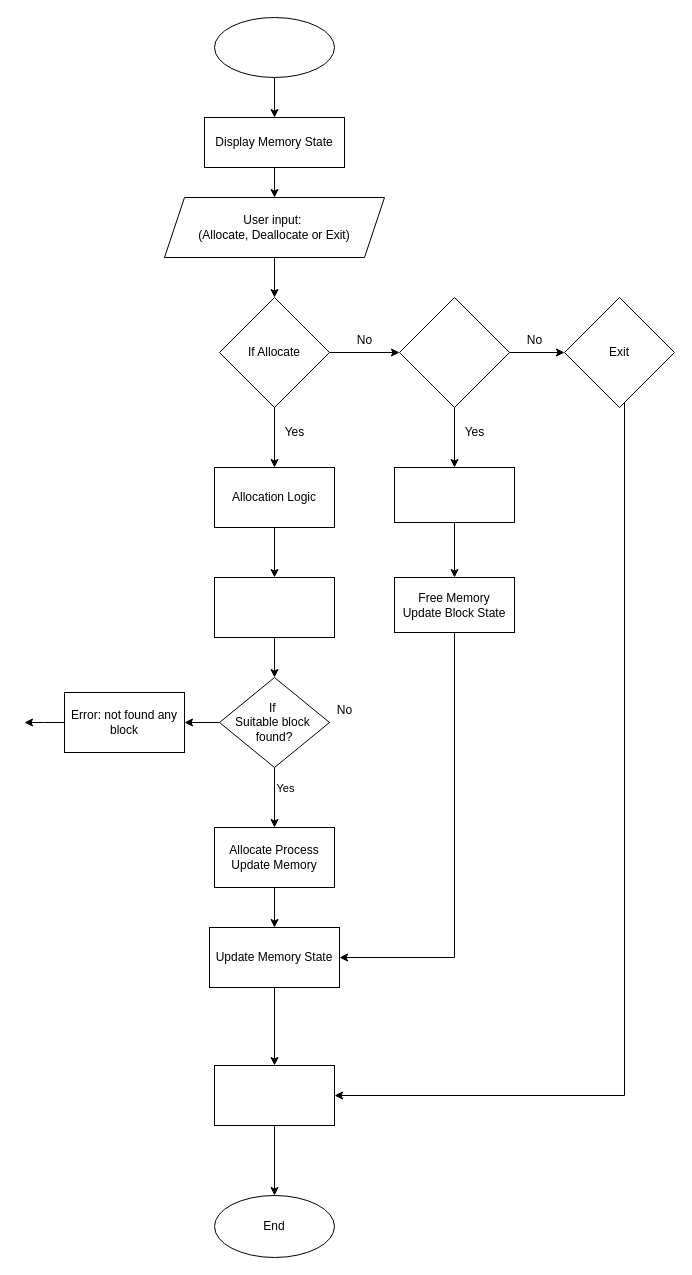
Some shapes in this 692 by 1275 pixel diagram are drawn without their labels. The centre of each missing label's shape, as x and y in pixels:
"Deallocation Logic" goes at (x=454, y=494).
"Final Memory State" goes at (x=274, y=1095).
"Find Largest free block" goes at (x=274, y=607).
"If Deallocate" goes at (x=454, y=352).
"Start" goes at (x=274, y=47).
